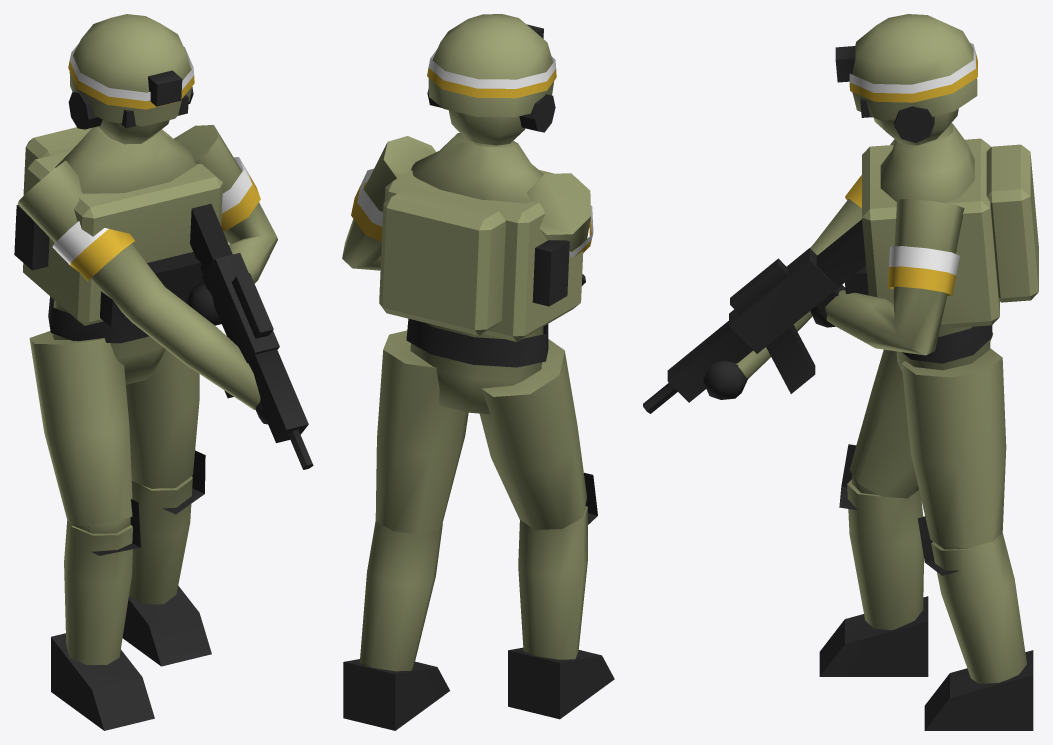
File: ua-rifleman.glb
3 renders of one model, left to right at view 1: azimuth 30°, elevation 25°; view 2: azimuth 150°, elevation 25°; view 3: azimuth 270°, elevation 25°, orthographic. The views are drawn at different scales.
Parts seen in each view (by area): view 1: limb_m_hips, limb_m_arms, limb_m_thigh_l, limb_m_shin_l, limb_m_shin_r, limb_m_thigh_r; view 2: limb_m_hips, limb_m_shin_r, limb_m_shin_l, limb_m_thigh_l, limb_m_thigh_r, limb_m_arms; view 3: limb_m_hips, limb_m_arms, limb_m_thigh_r, limb_m_shin_r, limb_m_shin_l, limb_m_thigh_l.
Boxes of the visible parts, bbox=[...] form: limb_m_hips: bbox=[14, 14, 223, 384]; limb_m_arms: bbox=[17, 125, 313, 469]; limb_m_thigh_l: bbox=[29, 331, 140, 555]; limb_m_shin_l: bbox=[51, 520, 154, 730]; limb_m_shin_r: bbox=[122, 476, 211, 666]; limb_m_thigh_r: bbox=[126, 349, 205, 514]; limb_m_hips: bbox=[379, 14, 583, 414]; limb_m_shin_r: bbox=[343, 521, 449, 730]; limb_m_shin_l: bbox=[508, 506, 614, 719]; limb_m_thigh_l: bbox=[479, 339, 597, 529]; limb_m_thigh_r: bbox=[375, 330, 468, 535]; limb_m_arms: bbox=[342, 136, 593, 285]; limb_m_hips: bbox=[835, 14, 1038, 371]; limb_m_arms: bbox=[643, 139, 964, 413]; limb_m_thigh_r: bbox=[901, 348, 1006, 575]; limb_m_shin_r: bbox=[924, 532, 1033, 730]; limb_m_shin_l: bbox=[819, 479, 928, 676]; limb_m_thigh_l: bbox=[839, 332, 993, 510].
Size of the model in its own units: 0.2179 by 0.5489 by 0.2951.
